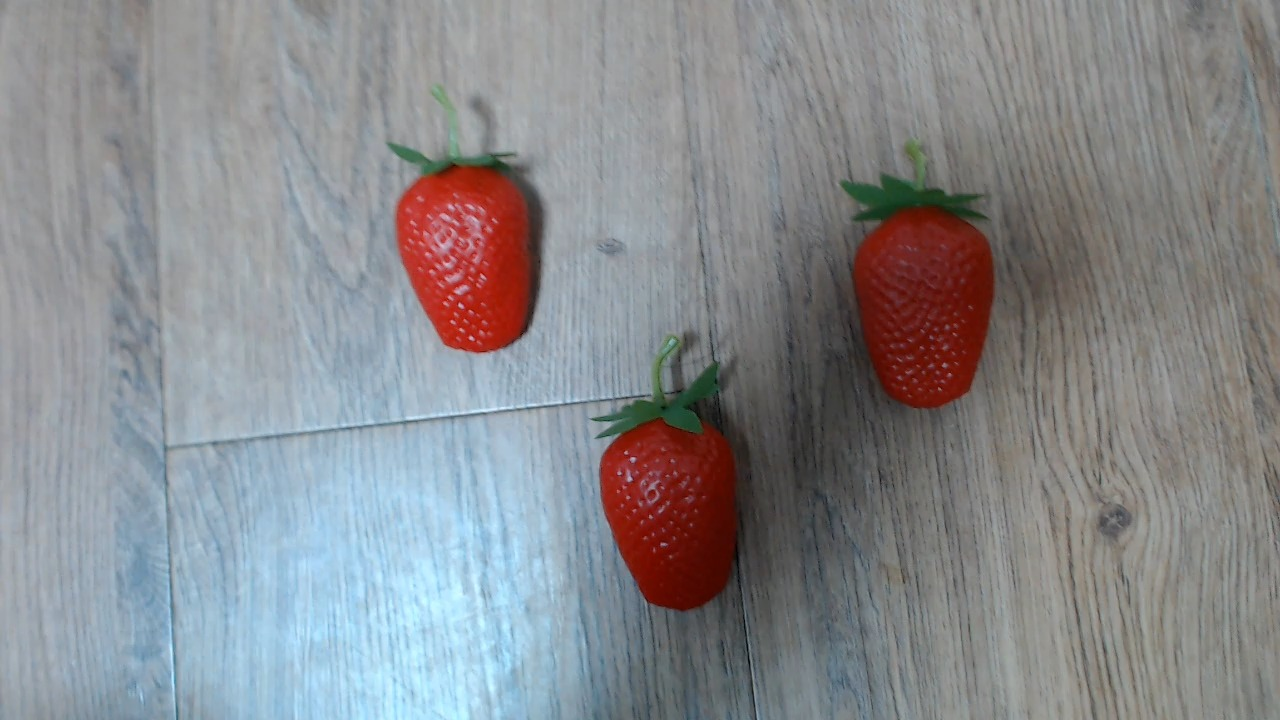strawberry: (599, 389, 759, 618), (390, 134, 544, 353), (856, 190, 1001, 417)
